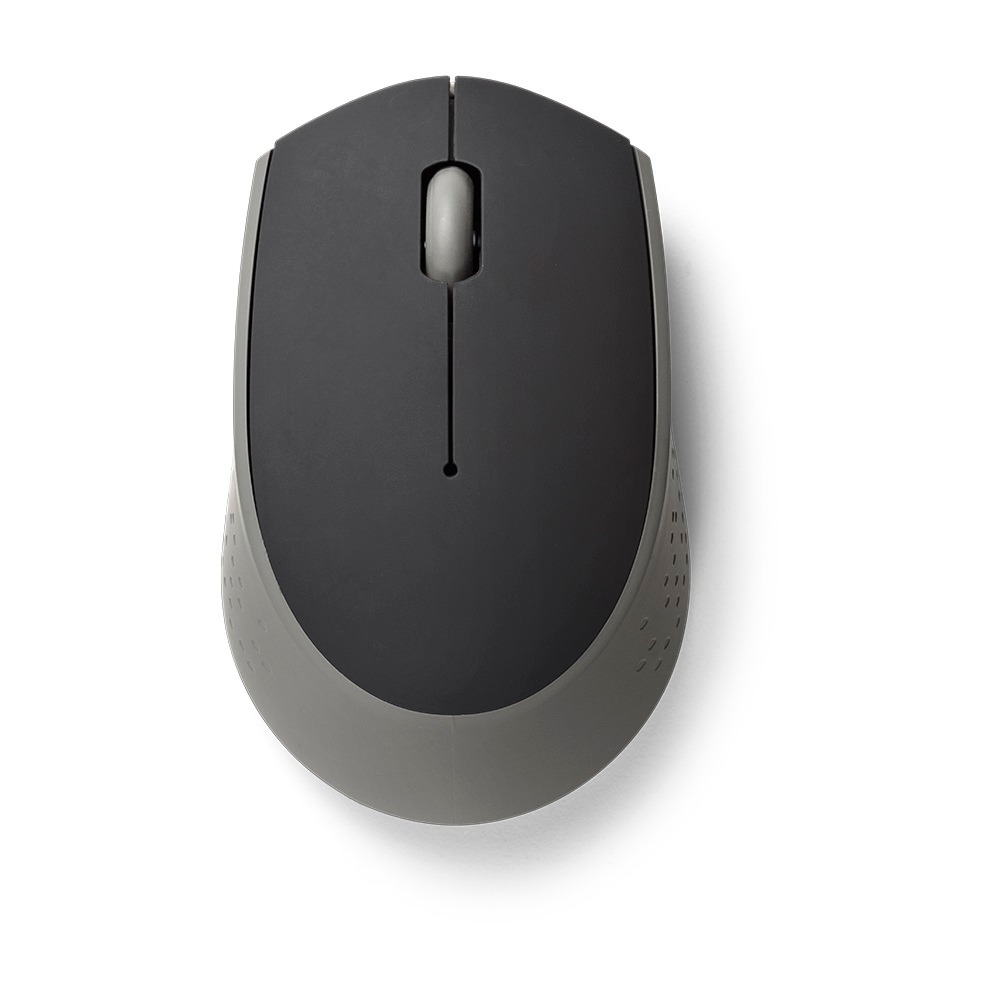mouse: (220, 74, 704, 821)
